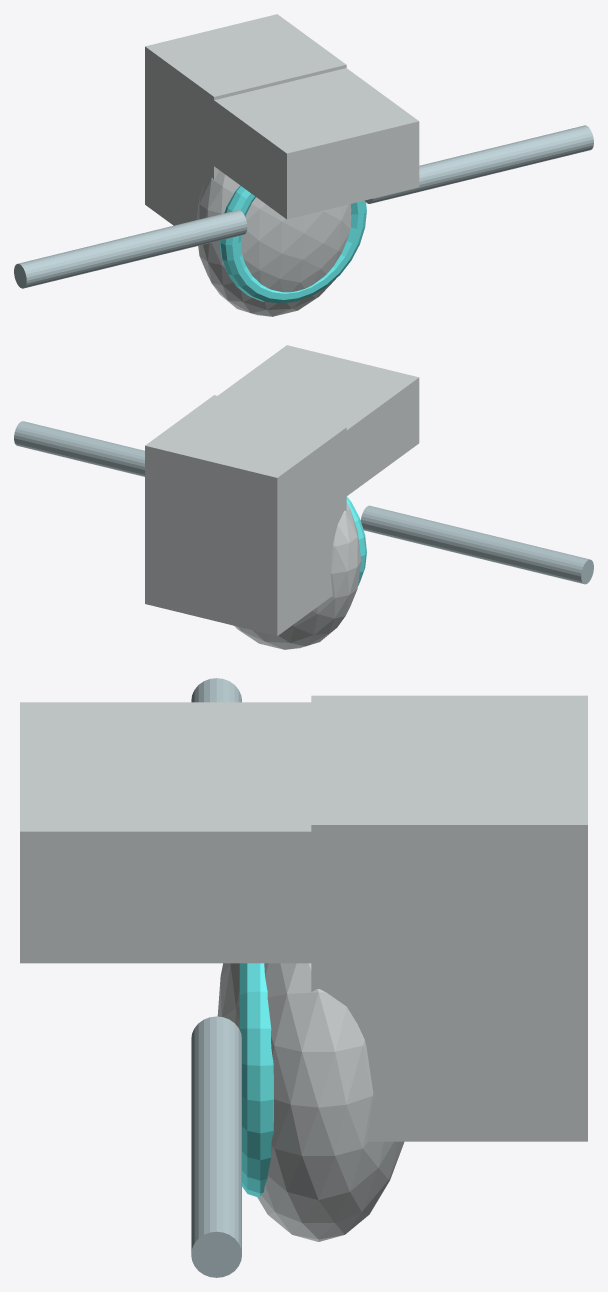
File: accessible-toilet.glb
3 renders of one model, top to bottom at view 1: azimuth 30°, elevation 25°; view 2: azimuth 150°, elevation 25°; view 3: azimuth 270°, elevation 25°, orthographic. The views are drawn at different scales.
Visible parts, largest first — view 1: world; view 2: world; view 3: world.
Part boxes in pixels (left/top/right/bottom): world: left=14, top=14, right=593, bottom=316; world: left=14, top=345, right=593, bottom=649; world: left=20, top=678, right=587, bottom=1277.
Bounding box in the file's own units: 1.8 × 0.71 × 0.78.
